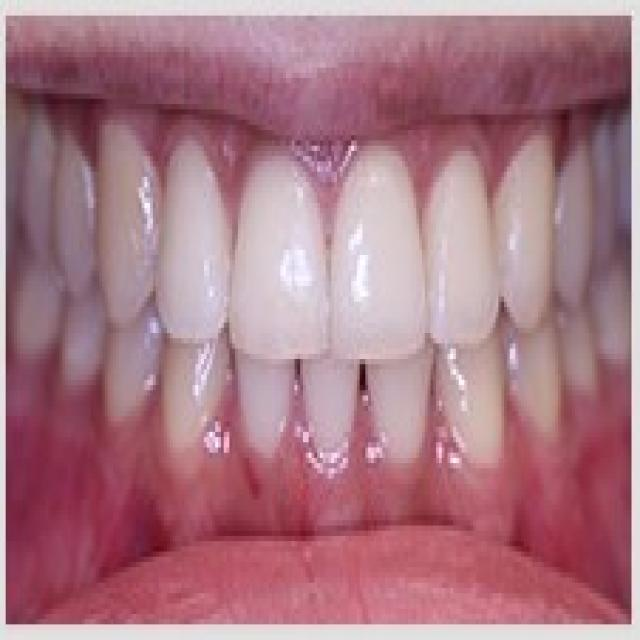tooth: (326, 151, 430, 369), (161, 114, 238, 359), (241, 156, 331, 364), (425, 141, 507, 359), (476, 120, 558, 307), (99, 135, 156, 323), (439, 343, 507, 484), (300, 343, 365, 458), (235, 333, 286, 474), (558, 140, 597, 307), (374, 369, 433, 474), (507, 333, 569, 432), (161, 343, 218, 437), (59, 130, 96, 260), (102, 328, 156, 411)
